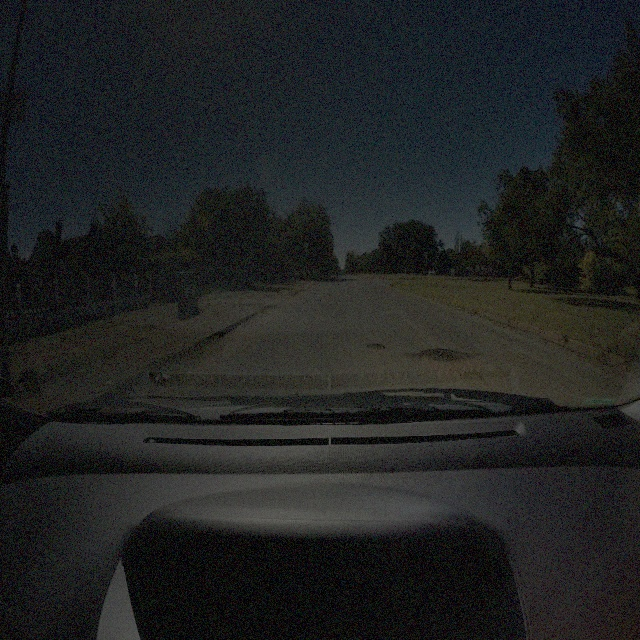pothole: (400, 345, 474, 366), (365, 339, 387, 350)
